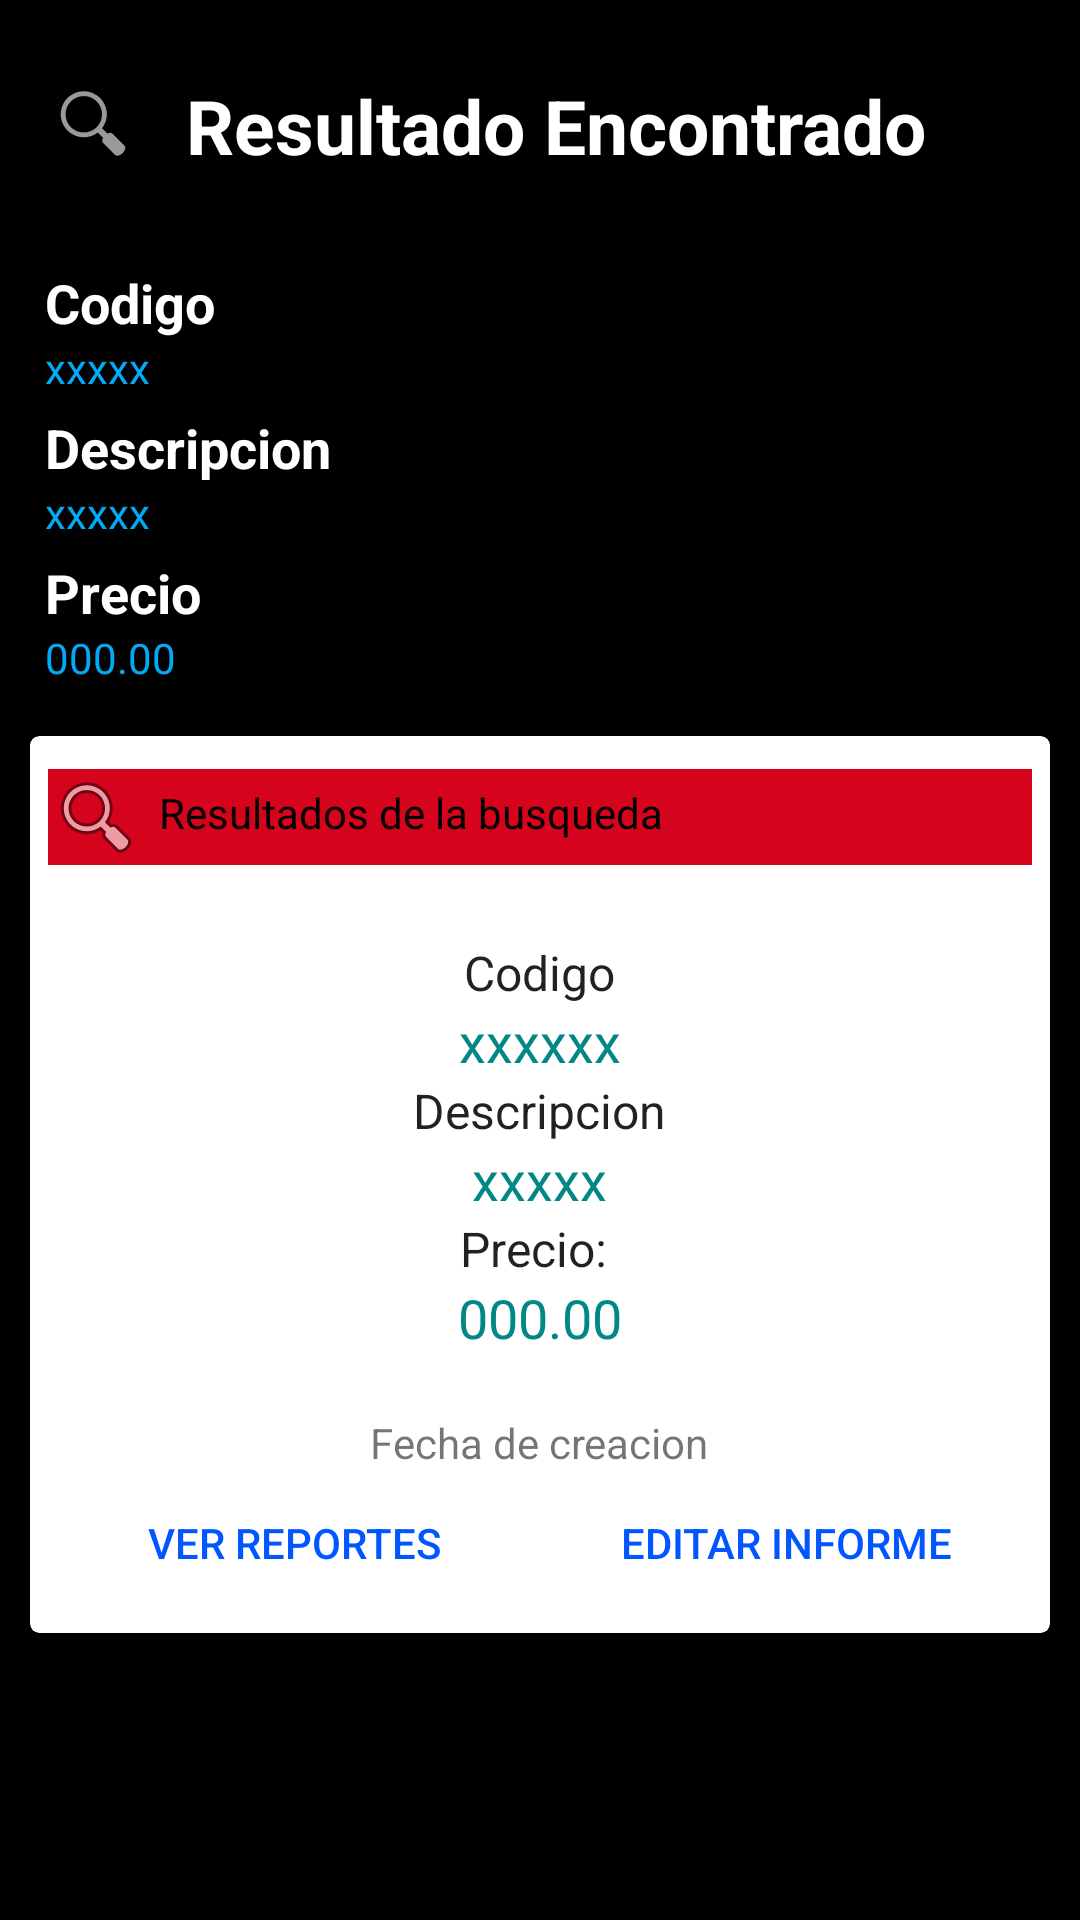

Locate icon controls on the screen. Image size 1080×1920, boxes as {"x1": x1, "y1": y1, "x2": x2, "y2": y2}.
search: {"x1": 60, "y1": 91, "x2": 126, "y2": 156}, {"x1": 48, "y1": 769, "x2": 144, "y2": 865}
